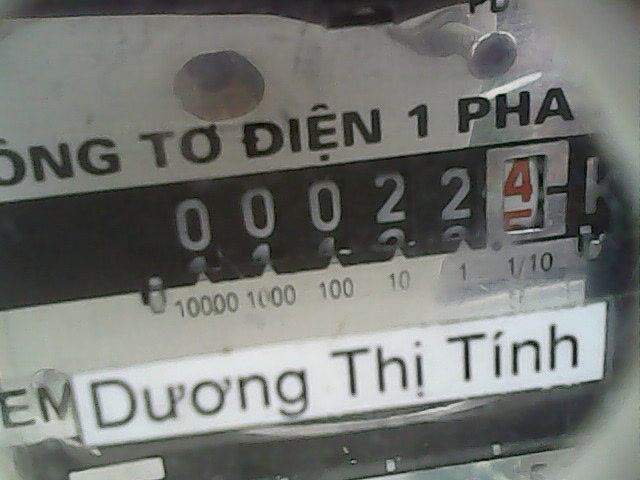phy_plate: (162, 131, 579, 277)
